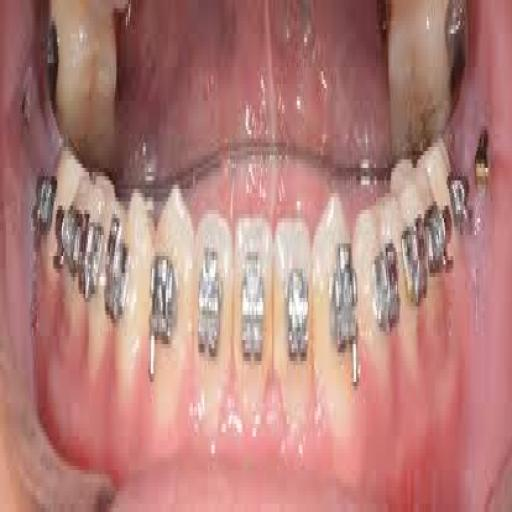correct_brace: (107, 175, 149, 405), (360, 193, 400, 397), (331, 235, 358, 389), (150, 238, 180, 355), (372, 239, 400, 354), (108, 200, 130, 338), (240, 250, 264, 370), (197, 246, 221, 357), (285, 266, 308, 378), (80, 213, 102, 323)
incorrect_brace: (273, 211, 314, 402), (194, 215, 232, 379)
